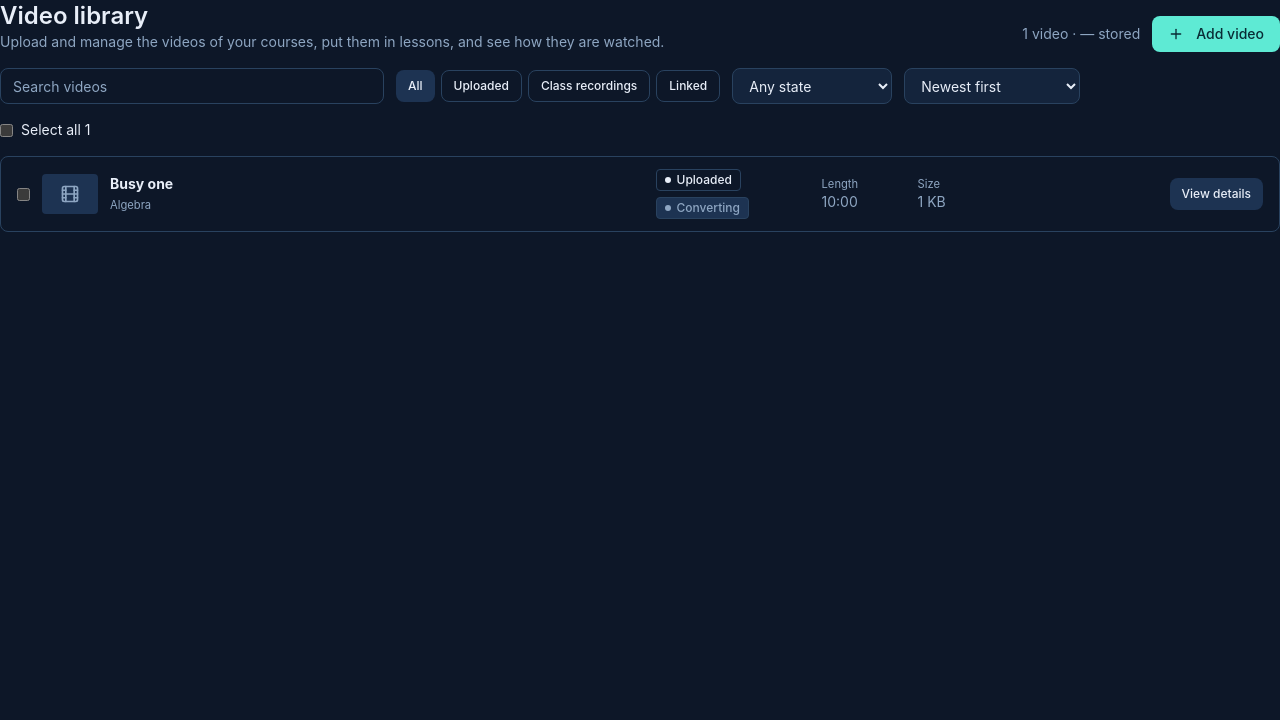
Scenario: videos being converted › says a converting video is being prepared instead of trying to play it
Step 1. Click the button with aria-label "View details for Busy one" → click(1216, 194), box [1170,178,1263,210]
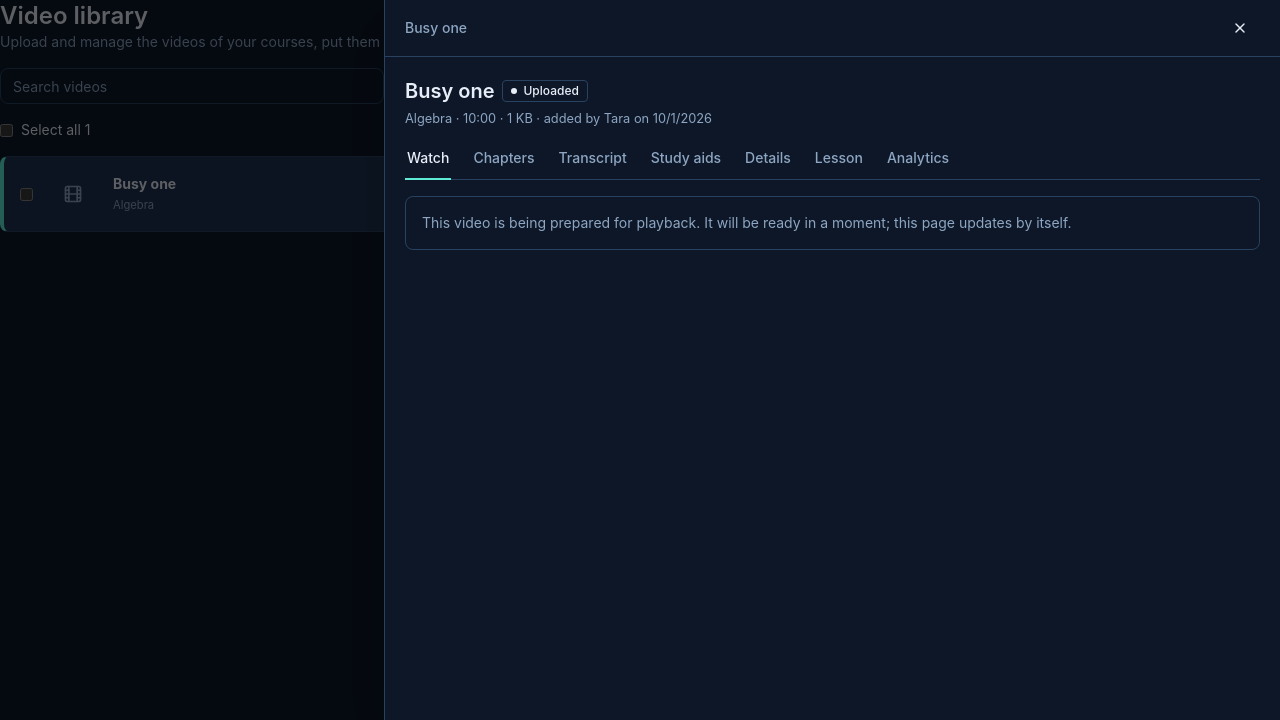
Check: the message shows "being prepared", box [422,214,1071,231]
